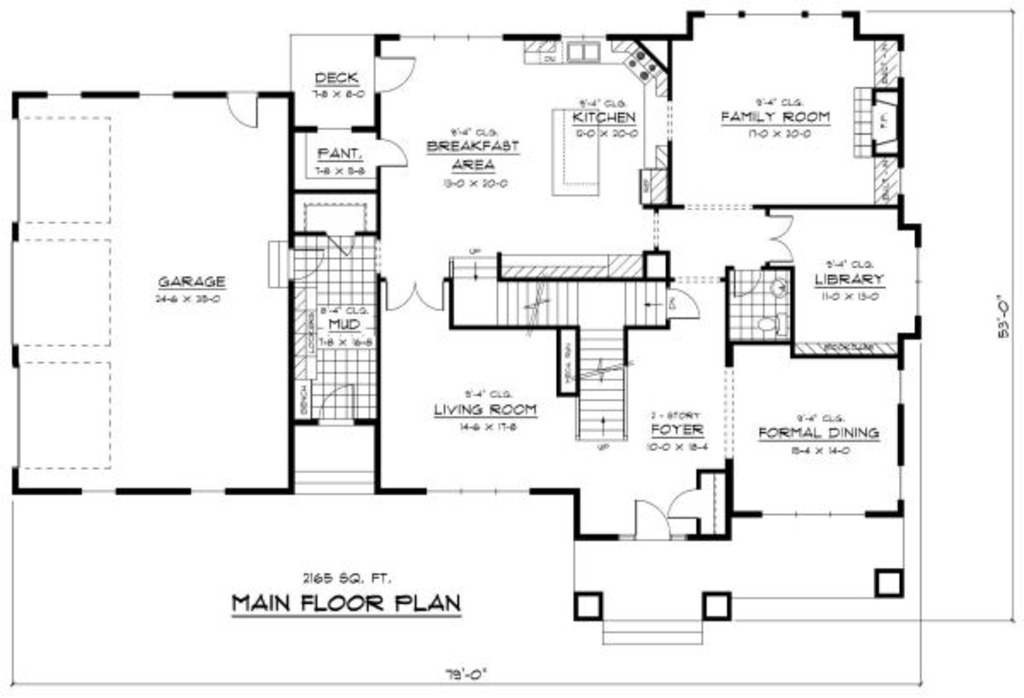door: (385, 272, 449, 316), (626, 498, 671, 542), (372, 55, 419, 97), (220, 89, 262, 133), (766, 212, 794, 267), (377, 136, 414, 172), (666, 286, 701, 321), (669, 487, 699, 520)
kitchen_bar: (548, 107, 600, 199)
stairs: (495, 281, 668, 444)
twin_sink: (566, 38, 605, 64)
windows: (395, 27, 505, 45), (756, 507, 871, 519), (418, 484, 533, 496), (910, 241, 926, 320), (183, 480, 226, 498), (132, 84, 175, 101), (896, 362, 910, 413), (72, 482, 116, 498), (893, 461, 909, 504), (44, 88, 83, 105)
